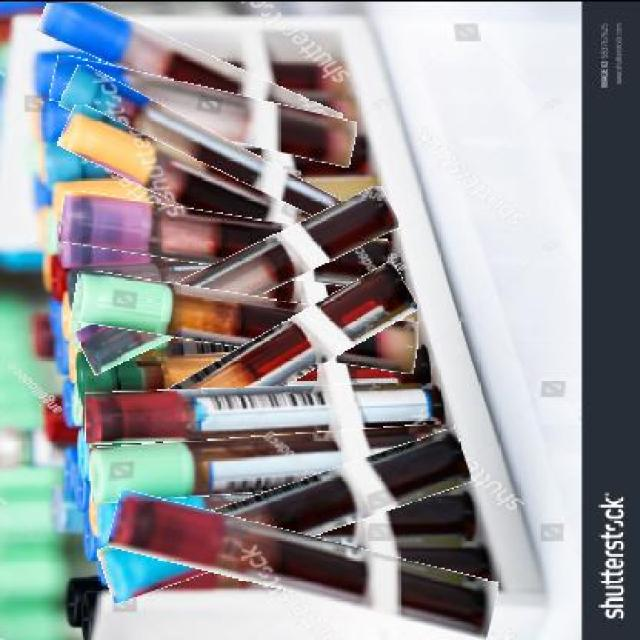Experimental-tube: (80, 301, 425, 441), (97, 456, 472, 573), (108, 511, 500, 615), (71, 218, 404, 338), (55, 136, 376, 253), (54, 97, 360, 215), (33, 17, 347, 126), (72, 280, 419, 358), (59, 200, 390, 277), (50, 69, 359, 149), (90, 428, 458, 495), (85, 383, 447, 440)
